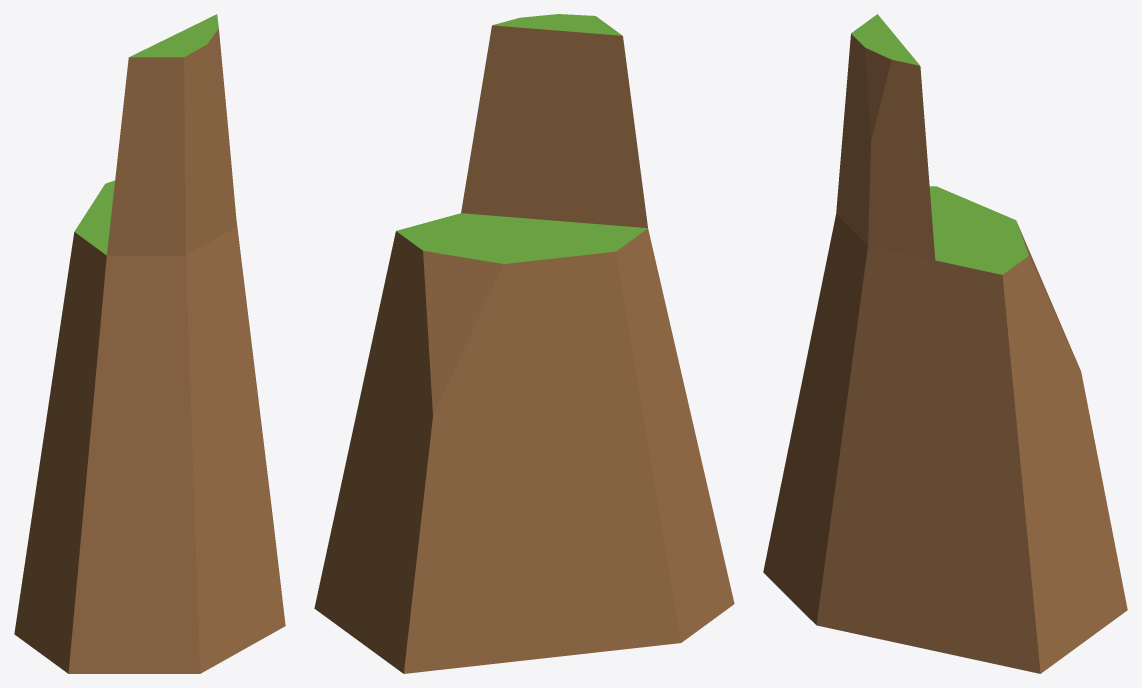
File: rock_tallD.glb
3 views of the same model, side by side, from view 1: azimuth 30°, elevation 25°; view 2: azimuth 150°, elevation 25°; view 3: azimuth 270°, elevation 25° (orthographic). The views are drawn at different scales.
Parts seen in each view (by area): view 1: rock_tallD; view 2: rock_tallD; view 3: rock_tallD.
Part boxes in pixels (x1=…): rock_tallD: x1=14, y1=14, x2=285, y2=673; rock_tallD: x1=314, y1=14, x2=734, y2=673; rock_tallD: x1=763, y1=14, x2=1127, y2=673.
Bounding box in the file's own units: 0.4428 × 0.7721 × 0.4615.
